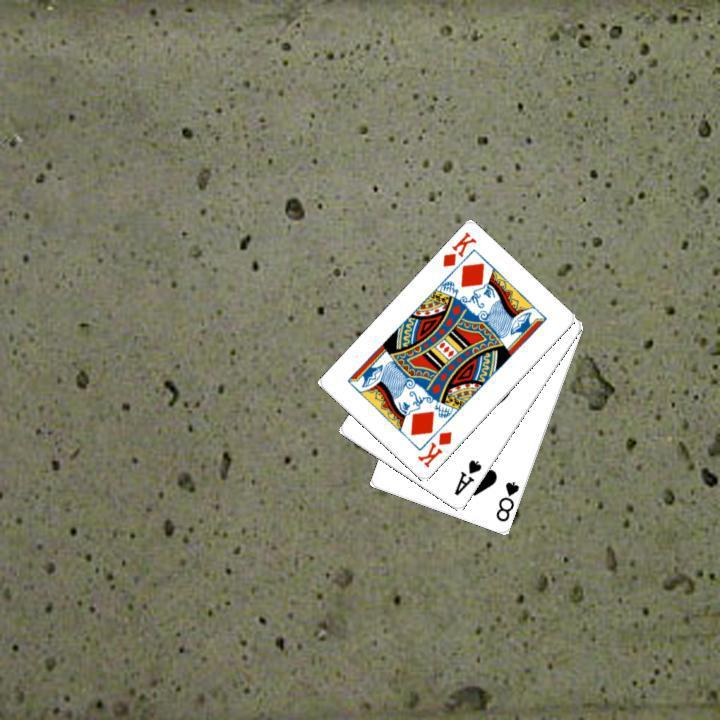8: (491, 477, 521, 524)
A: (450, 456, 484, 498)
K: (413, 427, 454, 470), (438, 227, 479, 270)
